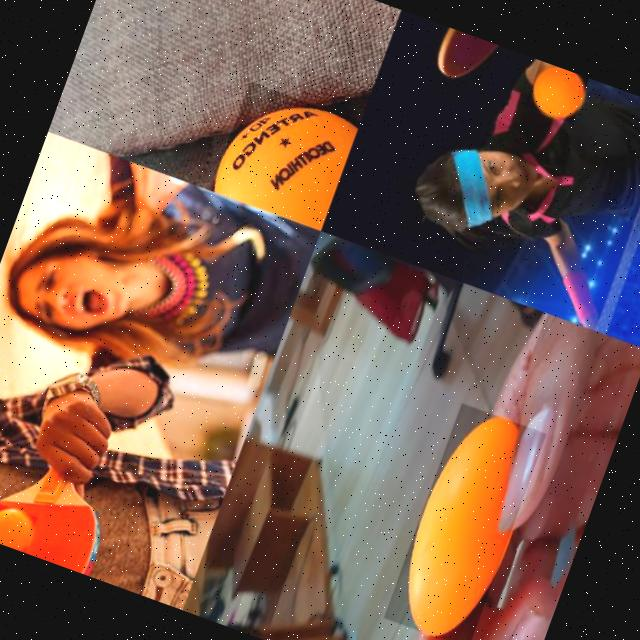ping-pong-ball: (382, 401, 547, 640), (211, 80, 360, 229), (524, 61, 590, 126), (0, 501, 39, 553)
